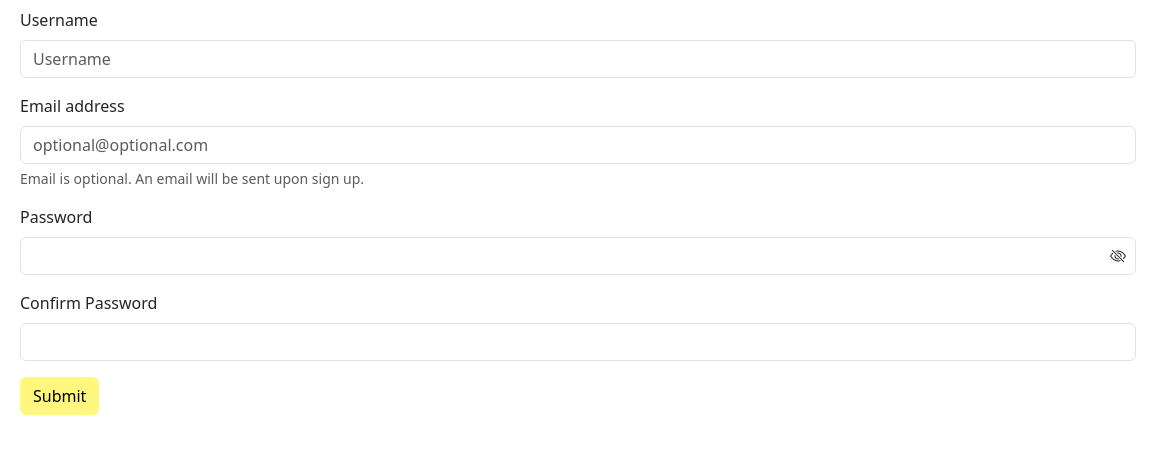
Test case: Sign up › validates email
In the field labelled "Email address": (578,145) [20, 126, 1136, 164], type "abc"
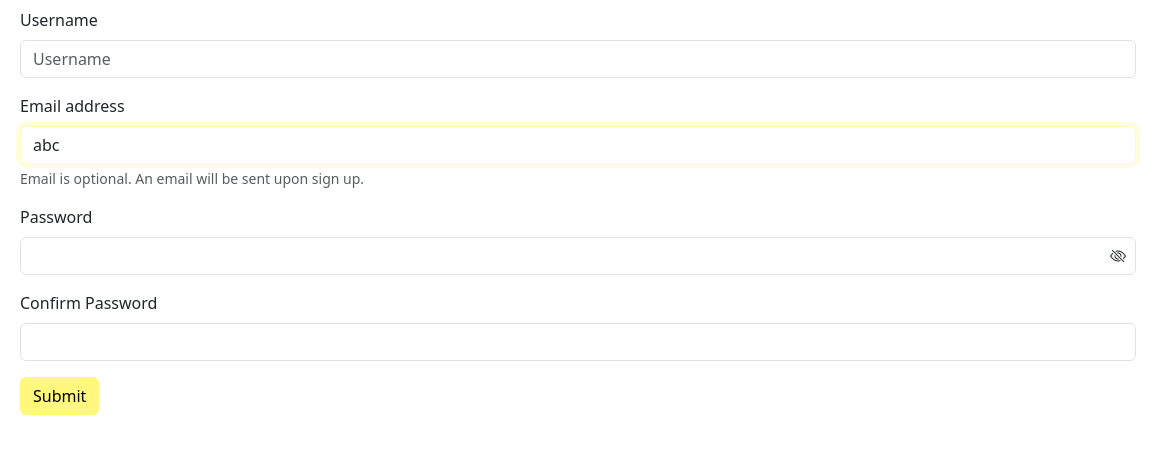
Click the button "Submit": (60,396) [20, 377, 99, 415]
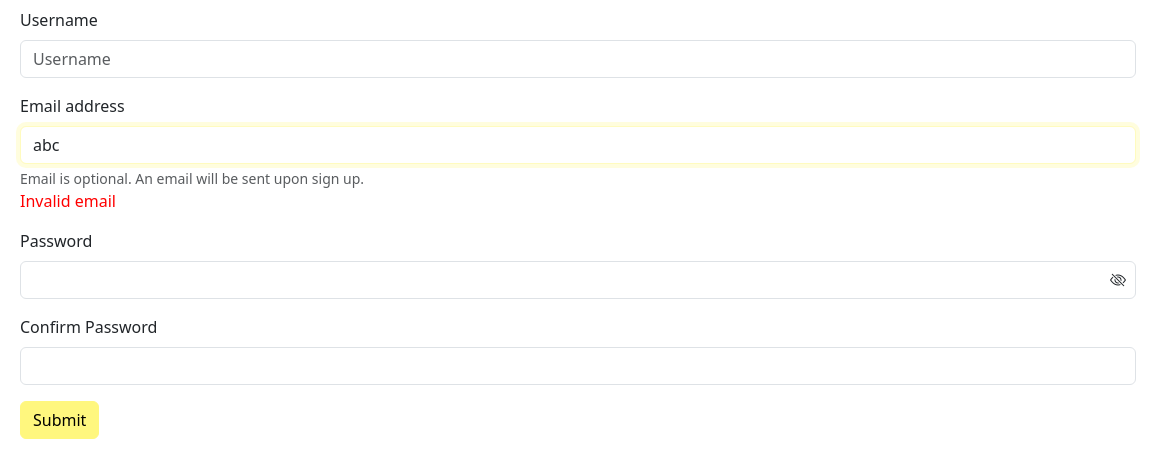
Now the text "Invalid email" is shown, box [20, 190, 116, 212]
